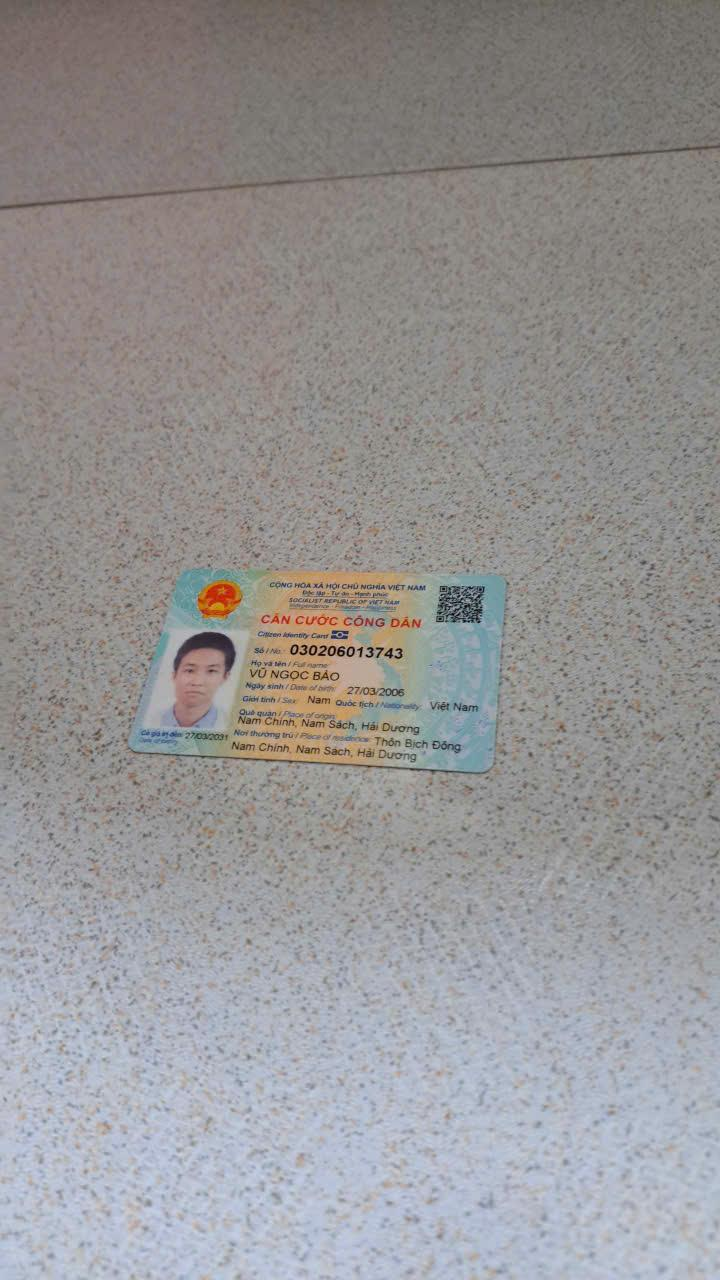cccd: (122, 553, 512, 783)
